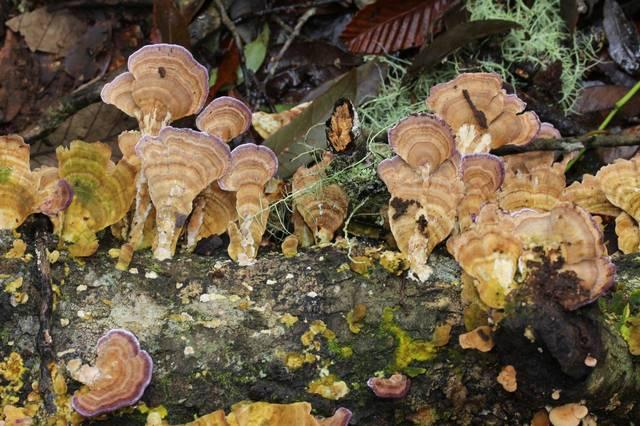poisonous_mushroom: (0, 63, 640, 300), (99, 41, 209, 135), (66, 327, 153, 418)
